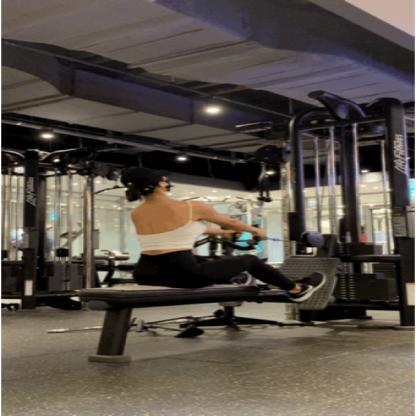Seated Cable Rows: (68, 95, 416, 416)
